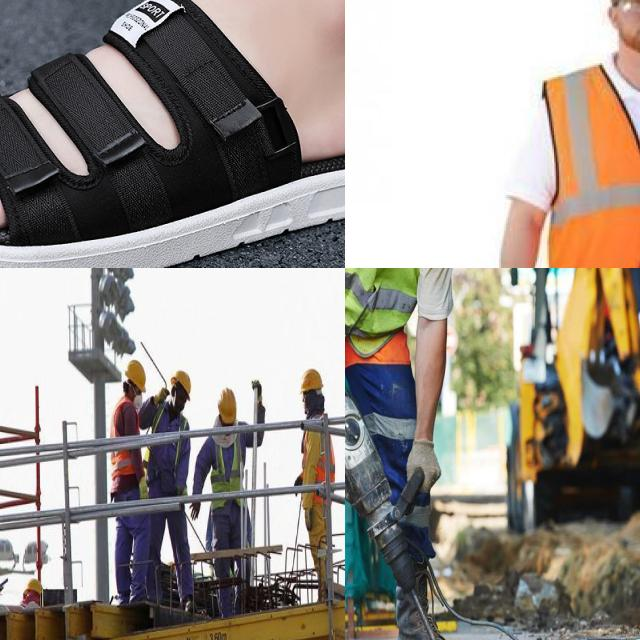Sandals: (0, 0, 345, 268)
face_nomask: (593, 0, 640, 60), (174, 390, 187, 415)
glasses: (617, 0, 640, 13)
hand_glove: (406, 433, 448, 497), (250, 376, 266, 406), (189, 492, 201, 527), (153, 385, 169, 409)
head_helmet: (215, 388, 237, 423), (125, 359, 147, 389), (172, 366, 194, 396), (298, 368, 325, 392)
person: (345, 268, 478, 640), (526, 0, 640, 268), (205, 393, 265, 600), (296, 368, 344, 592), (147, 371, 193, 597), (107, 365, 143, 613)
shoes: (388, 578, 467, 640)
vest: (540, 49, 640, 268), (345, 268, 455, 364), (298, 421, 334, 499), (210, 431, 246, 499), (154, 415, 192, 479), (108, 400, 136, 470)
